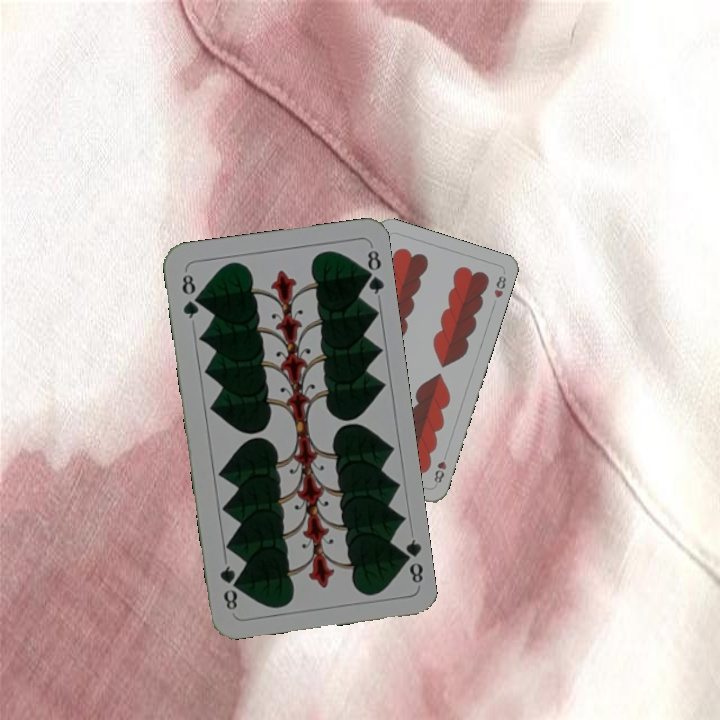G8: (395, 535, 426, 586), (177, 270, 202, 321)
H8: (430, 448, 450, 486)
